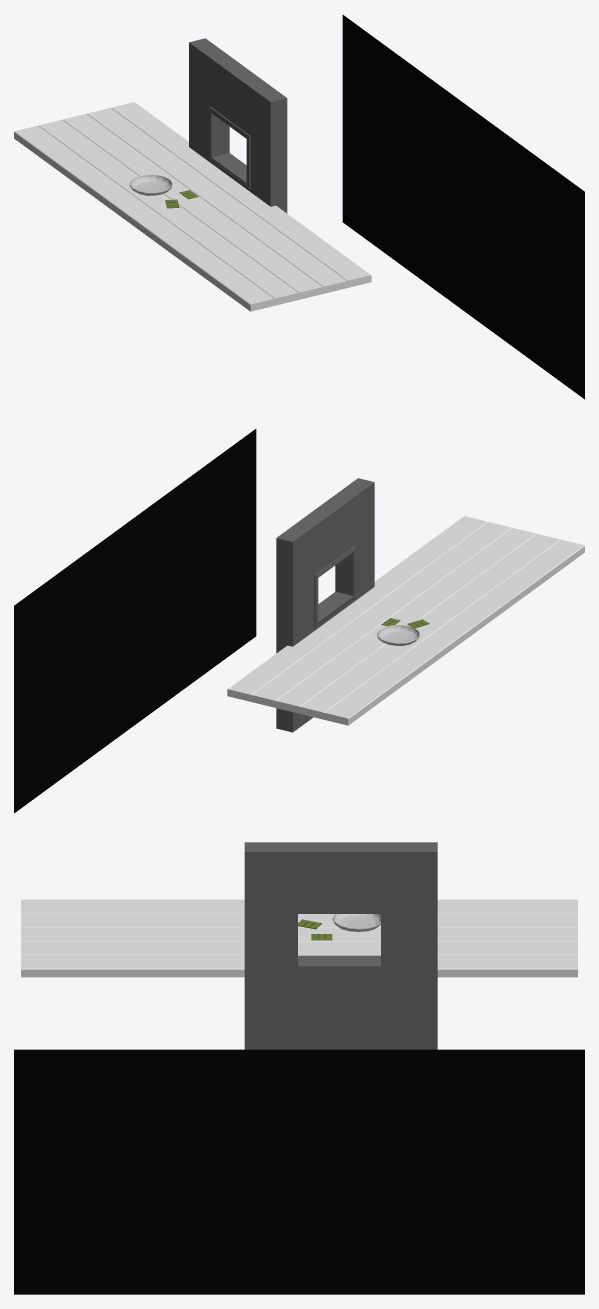
Rendered from scene_working.fbx.
3 views of the same model, one above another, from view 1: azimuth 30°, elevation 25°; view 2: azimuth 150°, elevation 25°; view 3: azimuth 270°, elevation 25° (orthographic). The views are drawn at different scales.
Visible parts, largest first — view 1: bg, table, Cube, bowl.003; view 2: bg, table, Cube, bowl.003; view 3: bg, Cube, table, bowl.003.
Boxes of the visible parts, box(x1,y1,x2,y2) form: bg: box(342, 15, 584, 399); table: box(14, 102, 371, 311); Cube: box(189, 38, 287, 213); bowl.003: box(129, 174, 172, 195); bg: box(14, 429, 256, 813); table: box(227, 516, 584, 725); Cube: box(276, 478, 374, 732); bowl.003: box(377, 625, 419, 645); bg: box(14, 1049, 584, 1294); Cube: box(244, 842, 437, 1049); table: box(21, 899, 577, 977); bowl.003: box(332, 914, 380, 931).
Bounding box in the file's own units: 1788 × 1435 × 2265.
